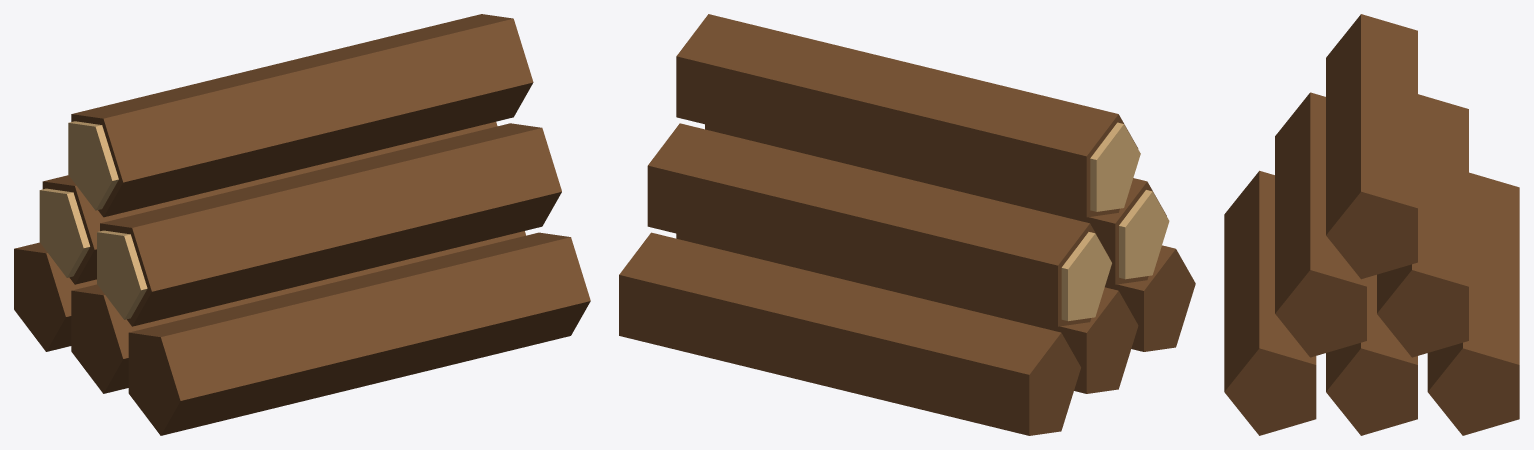
File: pilha_toras.glb
3 views of the same model, side by side, from view 1: azimuth 30°, elevation 25°; view 2: azimuth 150°, elevation 25°; view 3: azimuth 270°, elevation 25° (orthographic). The views are drawn at different scales.
Parts seen in each view (by area): view 1: corpo; view 2: corpo; view 3: corpo.
Boxes of the visible parts, x1=… form: corpo: x1=14, y1=14, x2=590, y2=435; corpo: x1=619, y1=14, x2=1195, y2=435; corpo: x1=1224, y1=14, x2=1519, y2=435.
Size of the model in its own units: 0.63 by 0.3977 by 0.4357.
